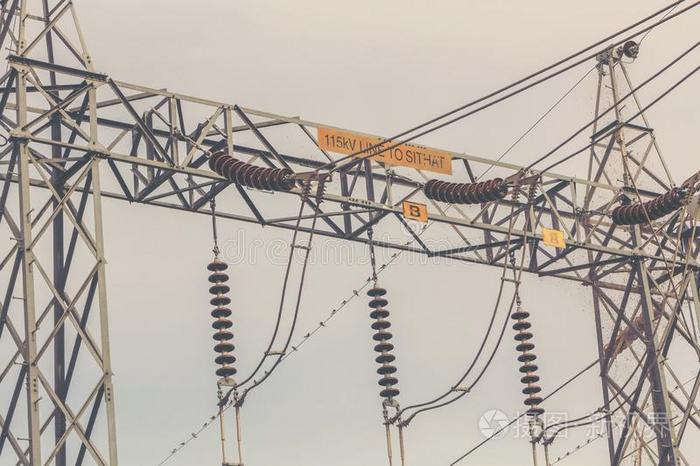insulator: (205, 258, 239, 377), (366, 285, 400, 398), (206, 151, 293, 193), (512, 310, 545, 417), (611, 188, 683, 224), (424, 176, 504, 203)
